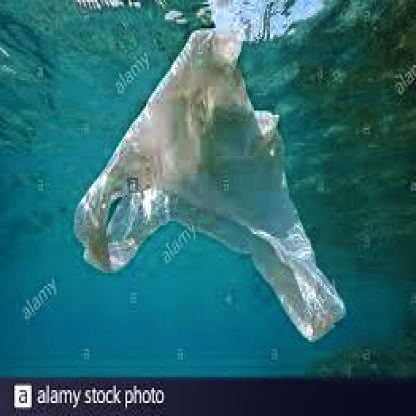pbag: (72, 21, 346, 344)
